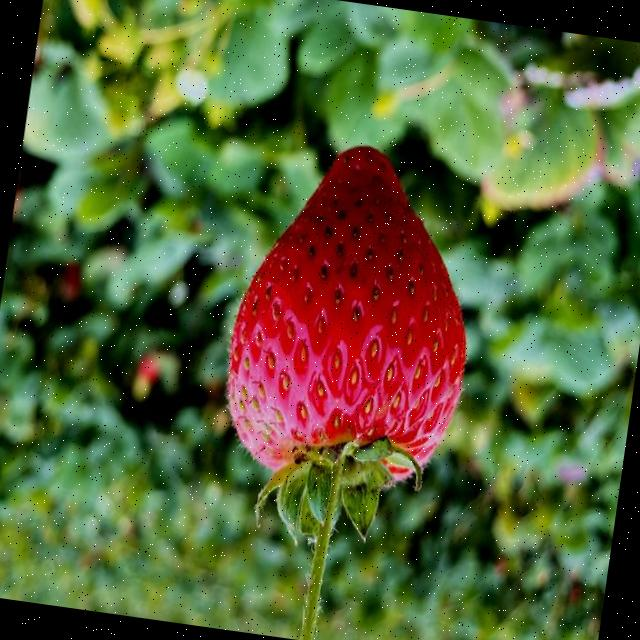strawberry: (226, 146, 465, 640)
